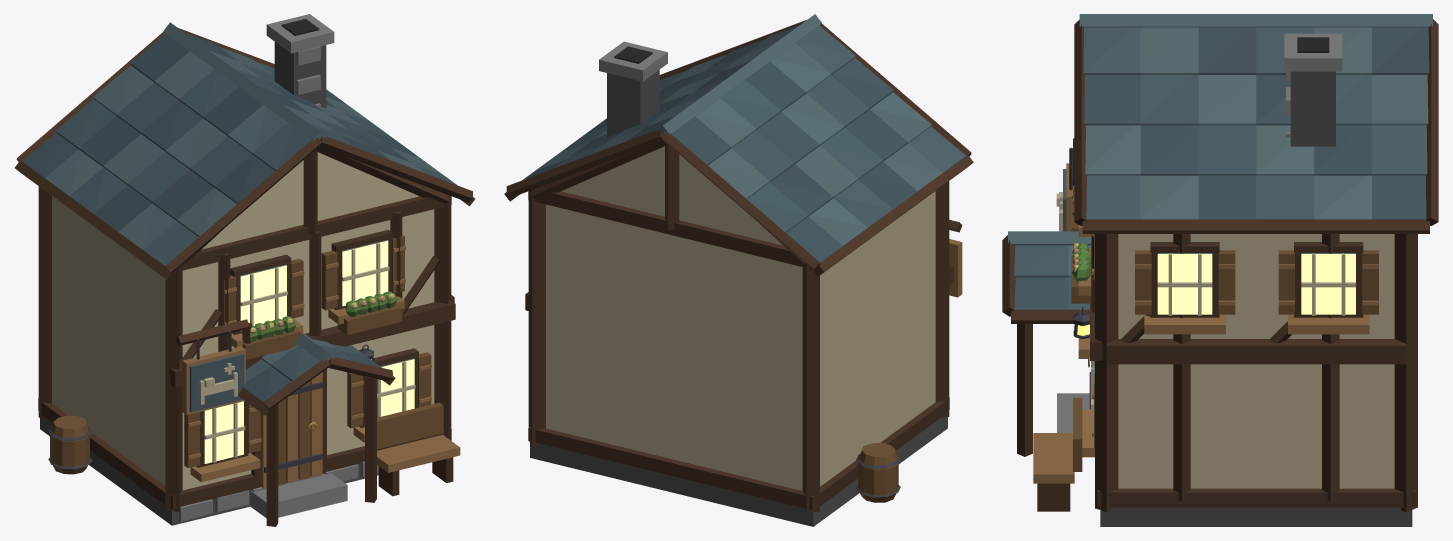
File: town_inn_a.glb
3 renders of one model, left to right at view 1: azimuth 30°, elevation 25°; view 2: azimuth 150°, elevation 25°; view 3: azimuth 270°, elevation 25°, orthographic. The views are drawn at different scales.
Parts seen in each view (by area): view 1: town_inn_a; view 2: town_inn_a; view 3: town_inn_a.
Part boxes in pixels (box(x1,y1,x2,y2)): town_inn_a: box(14, 14, 474, 526); town_inn_a: box(504, 14, 973, 526); town_inn_a: box(1002, 14, 1438, 526).
Size of the model in its own units: 4.38 by 4.79 by 4.22.
